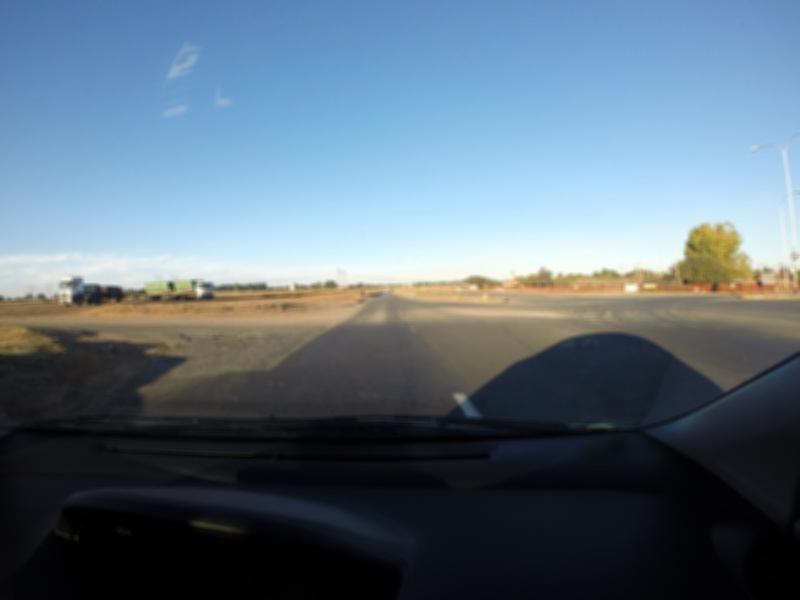pothole: (213, 331, 260, 338), (178, 332, 192, 342)
